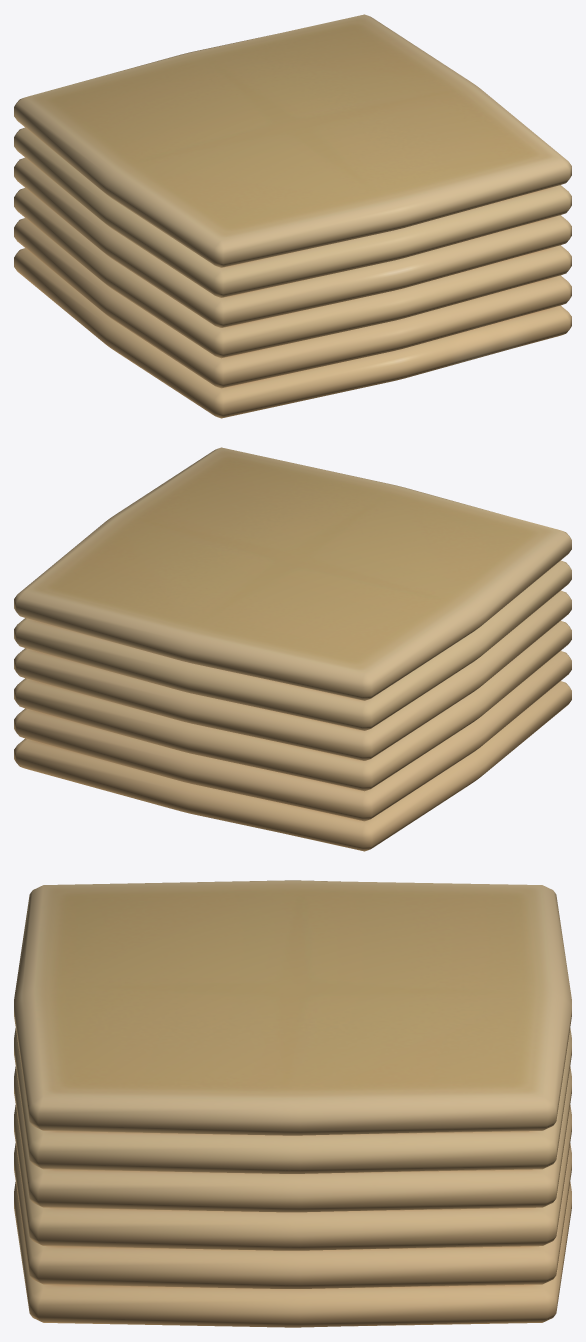
The model's file is Storage_Box.fbx.
The picture shows the model from 3 angles, top to bottom: view 1: azimuth 30°, elevation 25°; view 2: azimuth 150°, elevation 25°; view 3: azimuth 270°, elevation 25°; orthographic projection. The views are drawn at different scales.
Visible parts, largest first — view 1: Cube.065; view 2: Cube.065; view 3: Cube.065.
Part boxes in pixels (x1,y1,x2,y2): Cube.065: (14, 14, 571, 418); Cube.065: (14, 447, 571, 851); Cube.065: (14, 880, 571, 1327).
Size of the model in its own units: 64.5 by 29.38 by 64.5.
Materials: 1 (1 with a texture image).
